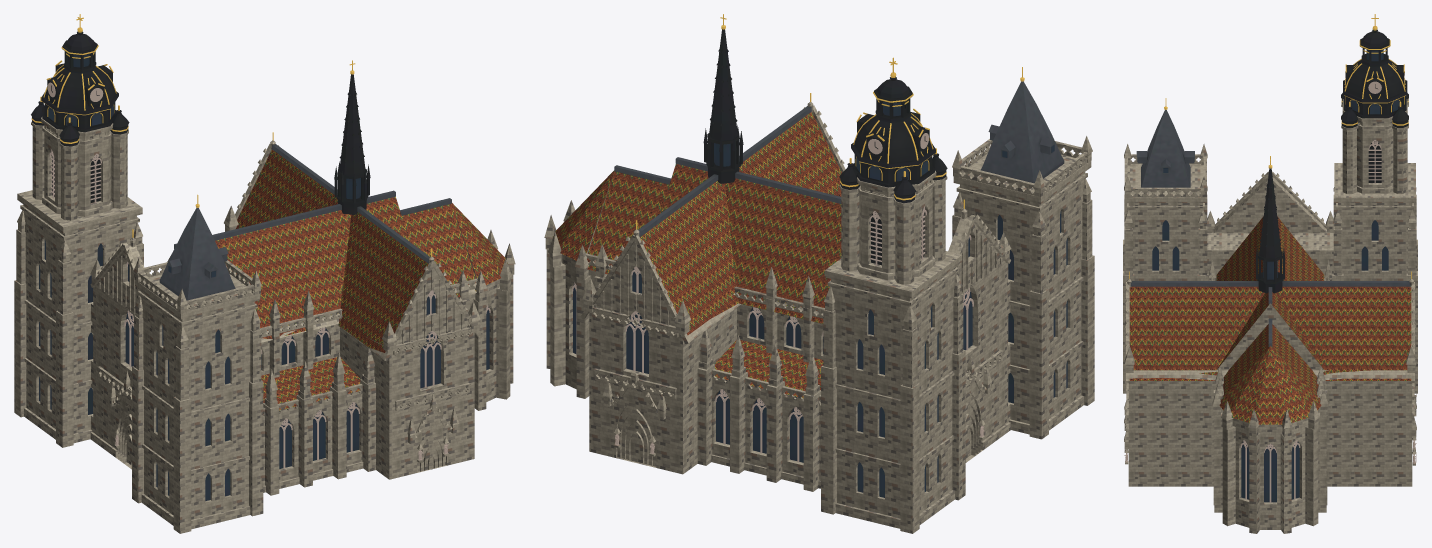
The model's file is cathedral.glb.
3 views of the same model, side by side, from view 1: azimuth 30°, elevation 25°; view 2: azimuth 150°, elevation 25°; view 3: azimuth 270°, elevation 25° (orthographic). The views are drawn at different scales.
Visible parts, largest first — view 1: cathedral_LOD0; view 2: cathedral_LOD0; view 3: cathedral_LOD0.
Part boxes in pixels (left/top/right/bottom): cathedral_LOD0: left=14, top=14, right=515, bottom=533; cathedral_LOD0: left=544, top=14, right=1094, bottom=533; cathedral_LOD0: left=1123, top=14, right=1417, bottom=533.
Size of what is drawn, in the model's own units: 62.22 by 59.05 by 43.7.
3 materials, 3 textured.
